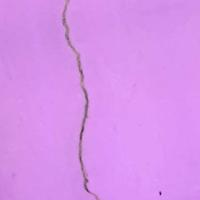crack: (37, 1, 107, 199)
